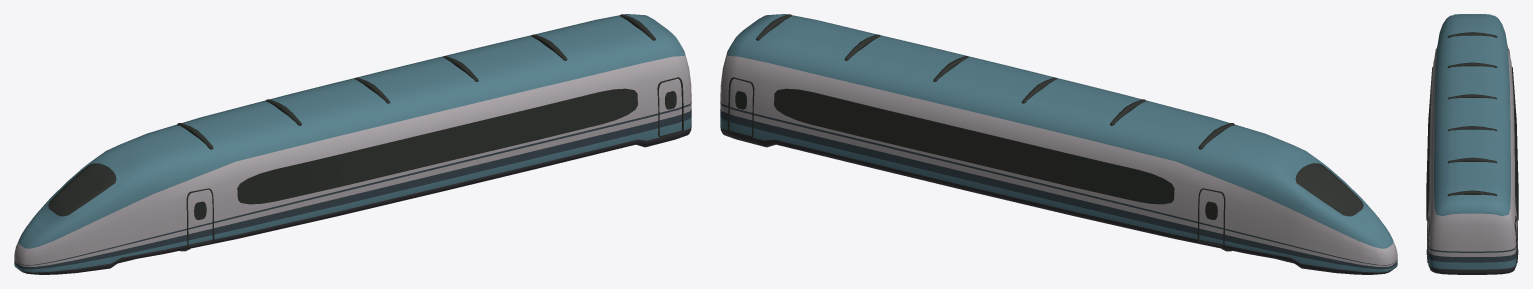
The model's file is train-front.glb.
3 renders of one model, left to right at view 1: azimuth 30°, elevation 25°; view 2: azimuth 150°, elevation 25°; view 3: azimuth 270°, elevation 25°, orthographic. The views are drawn at different scales.
Parts seen in each view (by area): view 1: HighspeedTrain_Front; view 2: HighspeedTrain_Front; view 3: HighspeedTrain_Front.
Boxes of the visible parts, <box> form: HighspeedTrain_Front: <box>14,14,691,274</box>; HighspeedTrain_Front: <box>720,14,1397,274</box>; HighspeedTrain_Front: <box>1426,14,1518,274</box>.
Size of the model in its own units: 12.16 by 1.9 by 2.03.
1 material, 1 textured.
